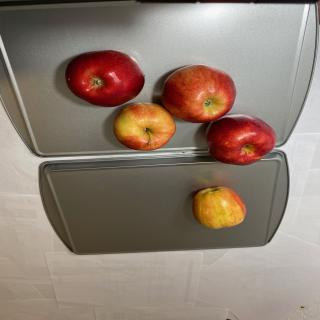Apple: (65, 50, 145, 107), (161, 64, 237, 123), (205, 114, 276, 166), (113, 102, 176, 151), (192, 186, 247, 229)
